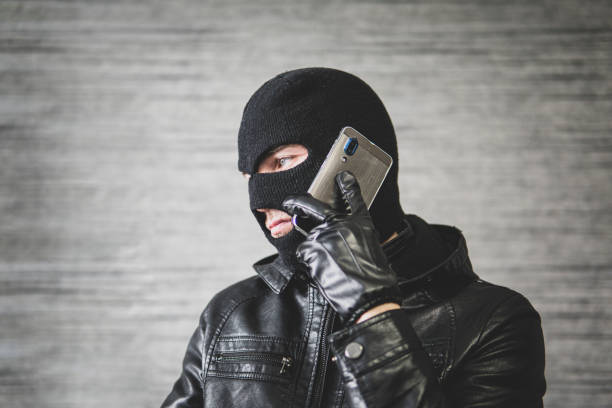terrorist: (122, 36, 514, 360)
